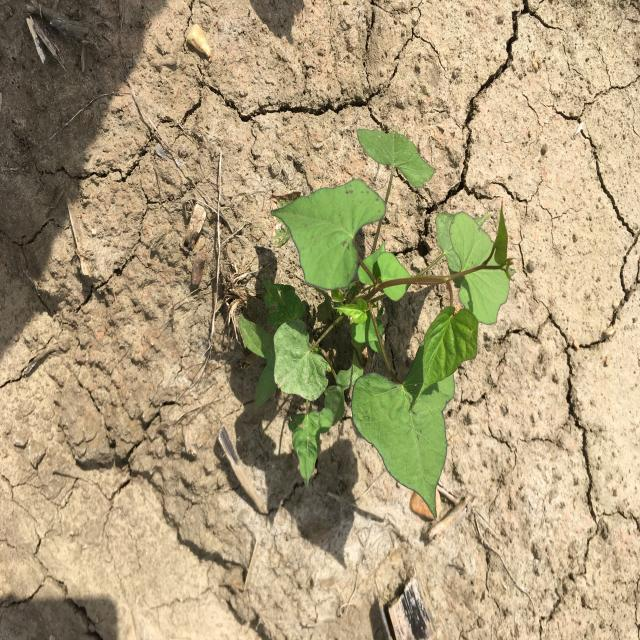MorningGlory: (238, 127, 517, 518)
